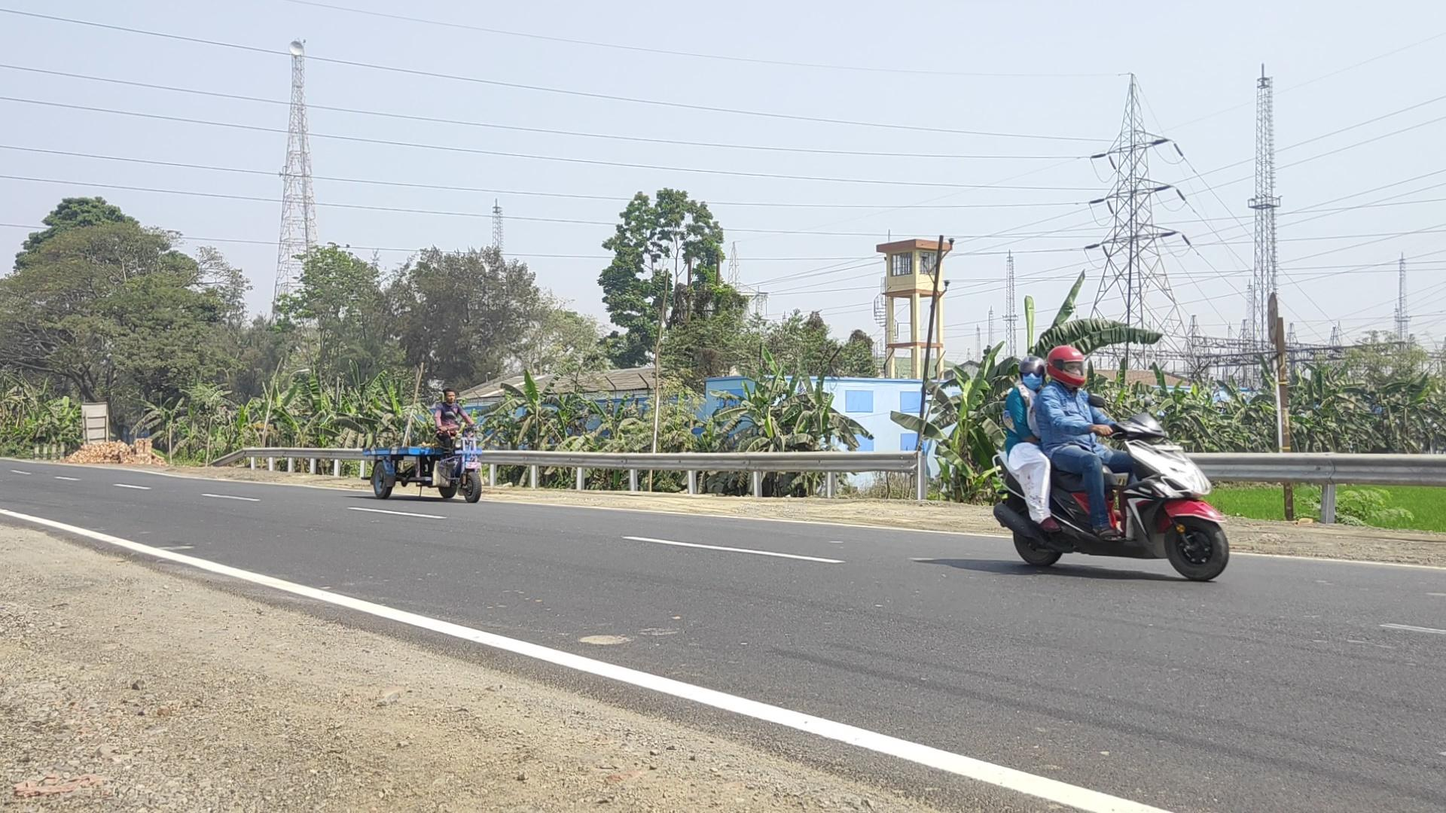bike: (991, 343, 1231, 582)
